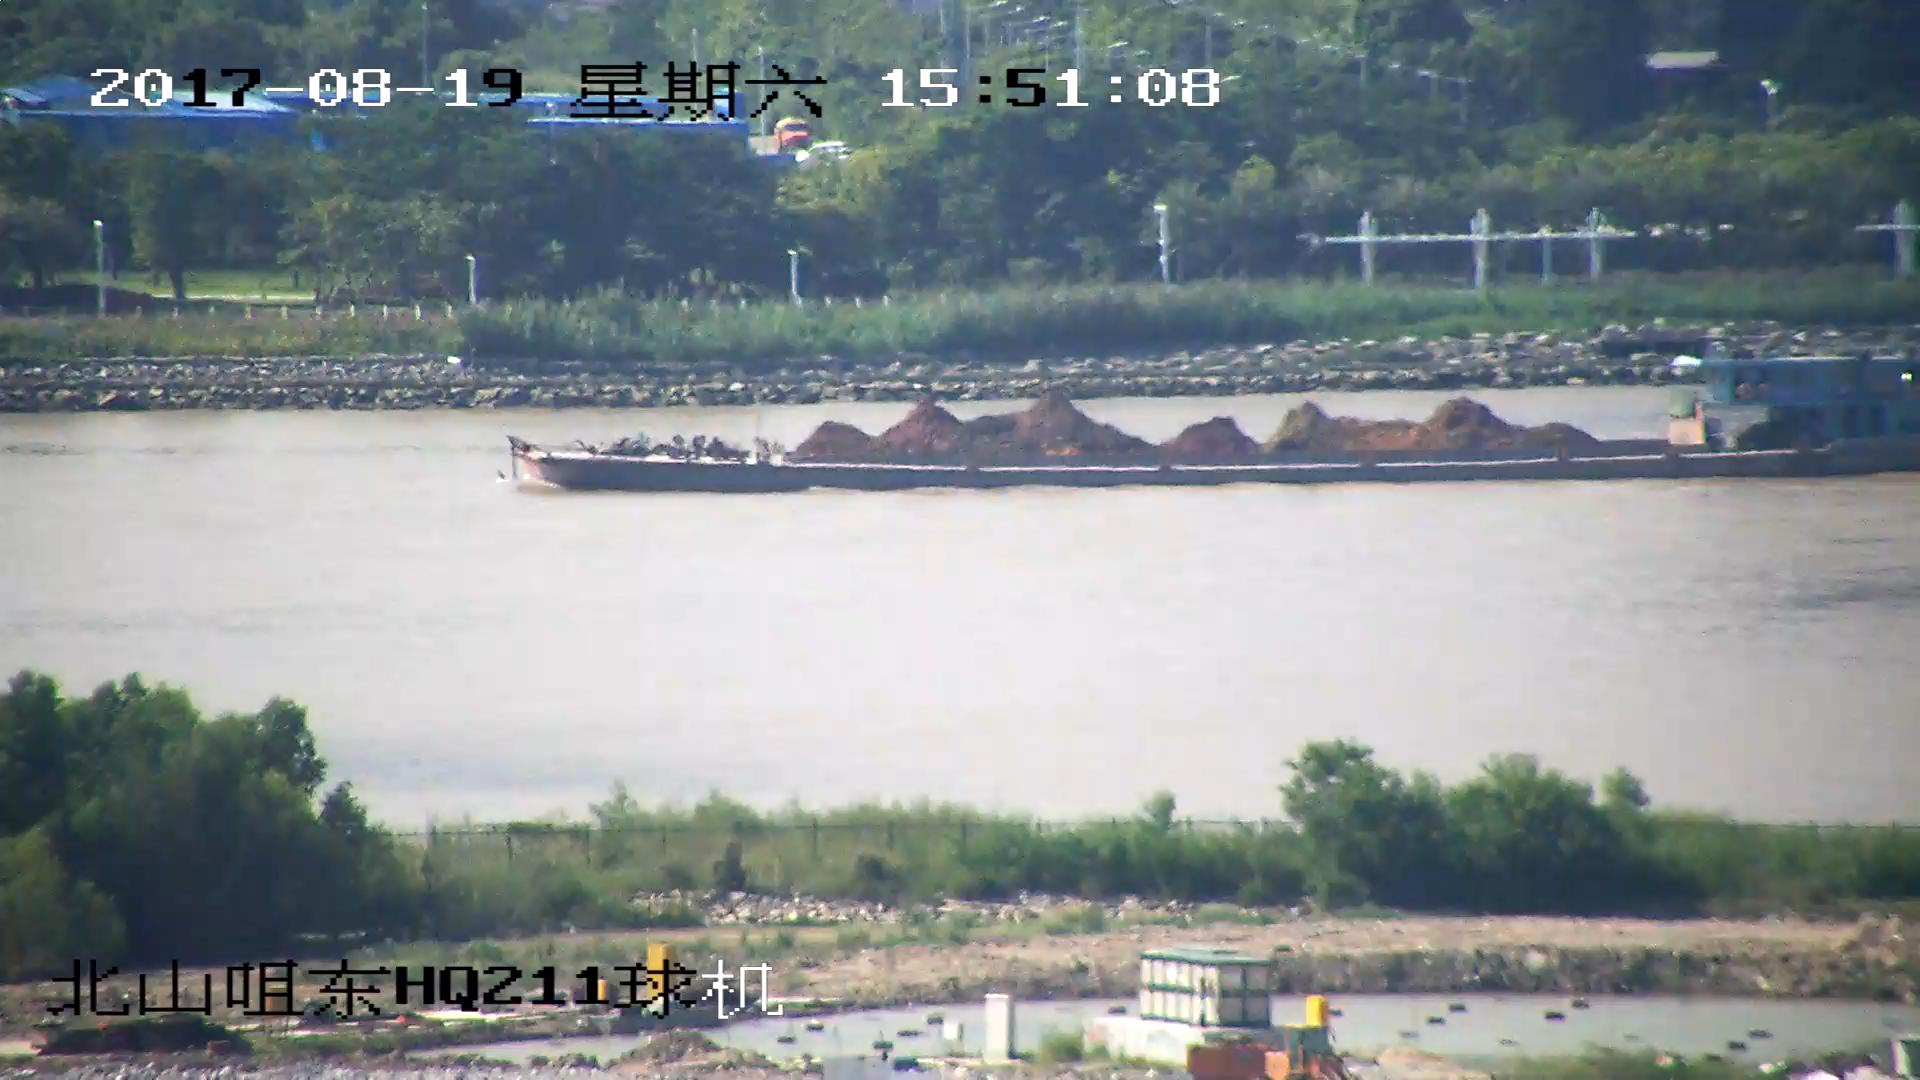ore carrier: (502, 360, 1920, 493)
